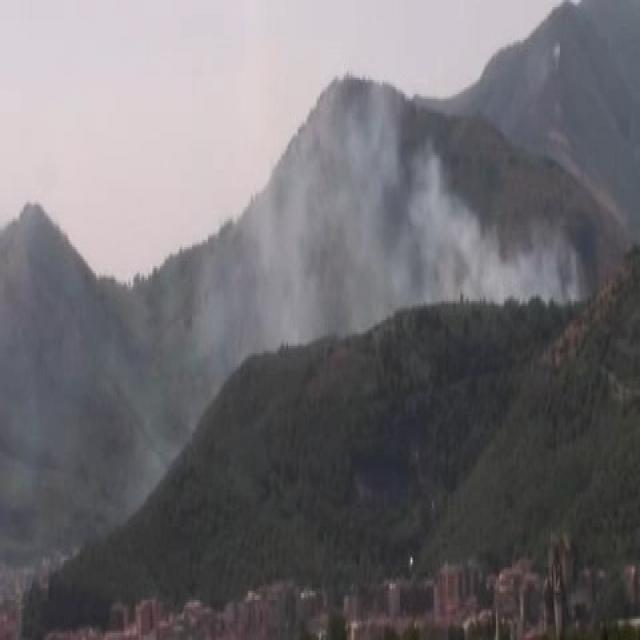smoke: (314, 104, 476, 310)
